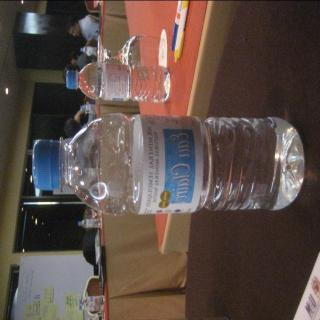Anorganik: (28, 114, 306, 214), (64, 55, 174, 104)
